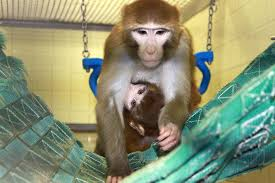monkey: (86, 3, 218, 170), (79, 80, 237, 126)
